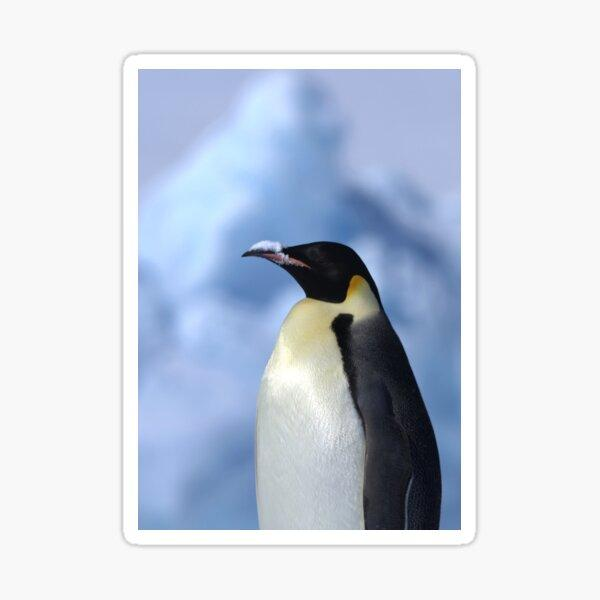emporer: (202, 205, 461, 540)
